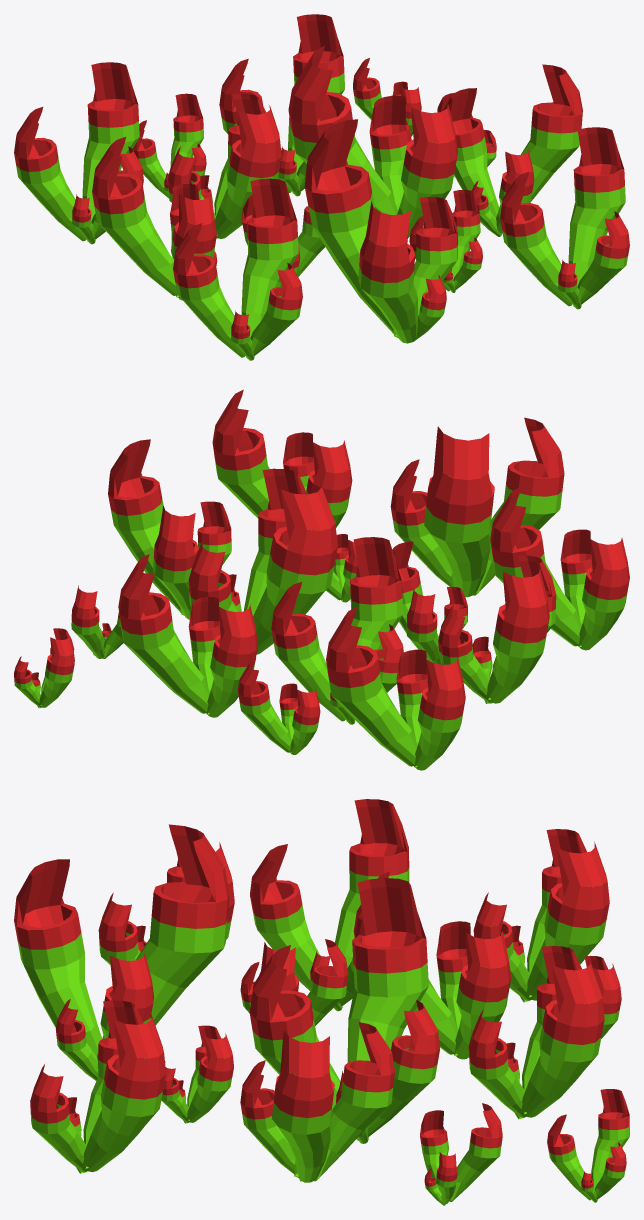
Rendered from PitcherPatch.fbx.
3 views of the same model, one above another, from view 1: azimuth 30°, elevation 25°; view 2: azimuth 150°, elevation 25°; view 3: azimuth 270°, elevation 25° (orthographic). The views are drawn at different scales.
Visible parts, largest first — view 1: Cylinder.002; view 2: Cylinder.002; view 3: Cylinder.002.
Part boxes in pixels (left/top/right/bottom): Cylinder.002: left=14, top=14, right=629, bottom=360; Cylinder.002: left=14, top=389, right=629, bottom=770; Cylinder.002: left=14, top=799, right=629, bottom=1205.
Bounding box in the file's own units: 191 × 191 × 81.07.
